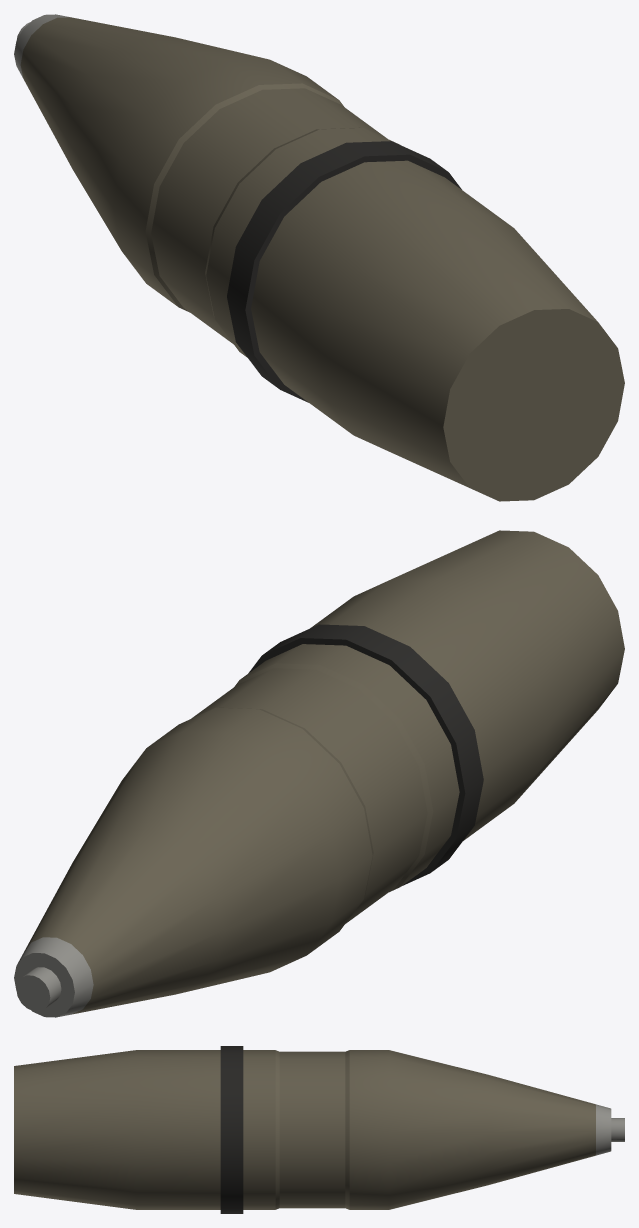
File: he_bullet_76.fbx
3 views of the same model, one above another, from view 1: azimuth 30°, elevation 25°; view 2: azimuth 150°, elevation 25°; view 3: azimuth 270°, elevation 25° (orthographic). The views are drawn at different scales.
Visible parts, largest first — view 1: Cylinder; view 2: Cylinder; view 3: Cylinder.
Part boxes in pixels (x1,y1,x2,y2): Cylinder: (14,14,624,501); Cylinder: (14,530,624,1017); Cylinder: (14,1046,624,1213).
Bounding box in the file's own units: 82.48 × 82.48 × 300.
